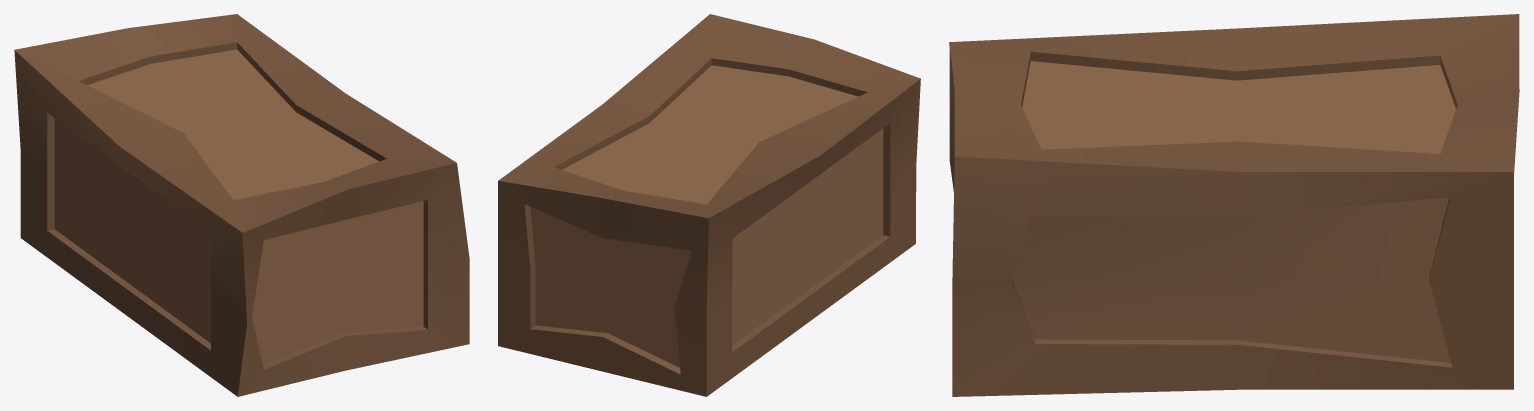
3 renders of one model, left to right at view 1: azimuth 30°, elevation 25°; view 2: azimuth 150°, elevation 25°; view 3: azimuth 270°, elevation 25°, orthographic. The views are drawn at different scales.
Parts seen in each view (by area): view 1: pCube1; view 2: pCube1; view 3: pCube1.
Part boxes in pixels (x1,y1,x2,y2): pCube1: [14, 14, 469, 396]; pCube1: [498, 14, 920, 396]; pCube1: [949, 14, 1519, 396].
Size of the model in its own units: 9.45 by 6.99 by 15.12.
